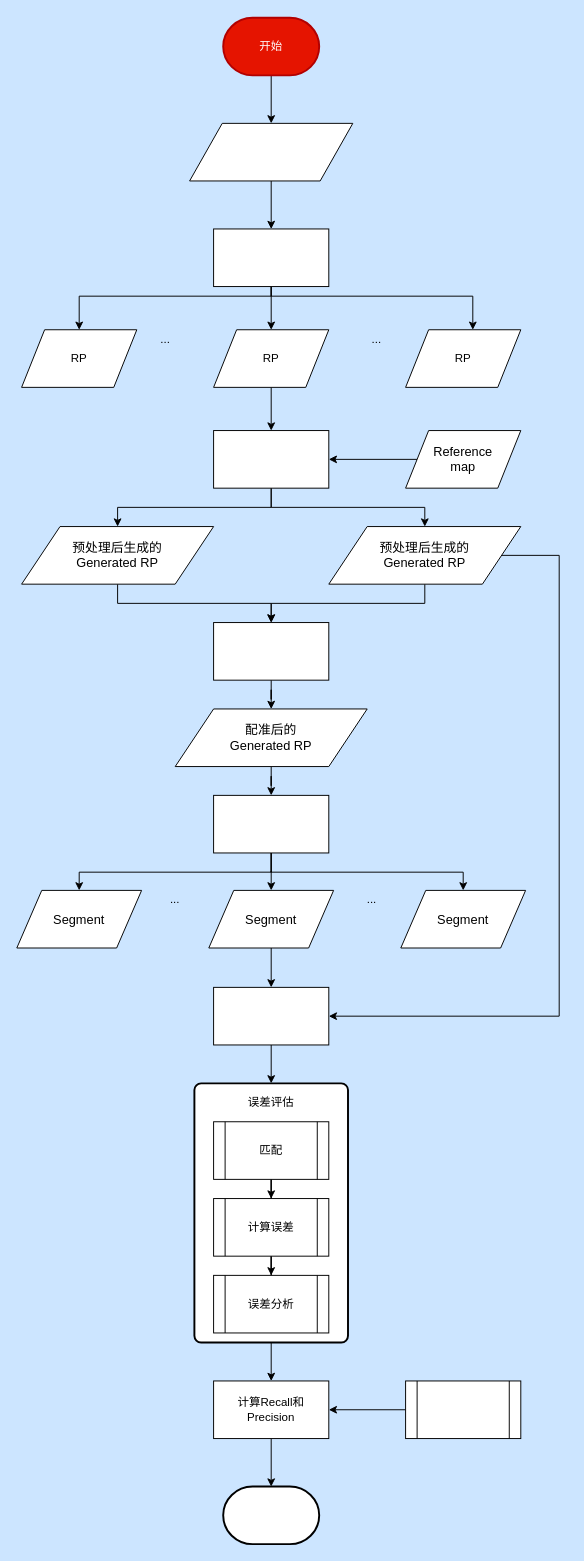
This 584x1561 diagram has some shape labels left out. Each missing label, with the centre of its shape:
Generated map: the point at 271,151
Road Partion: the point at 271,257
Segment划分: the point at 271,823
手工检查: the point at 463,1409
粗配准: the point at 271,651
精确配准: the point at 271,1015
结束: the point at 271,1515
预处理: the point at 271,459
